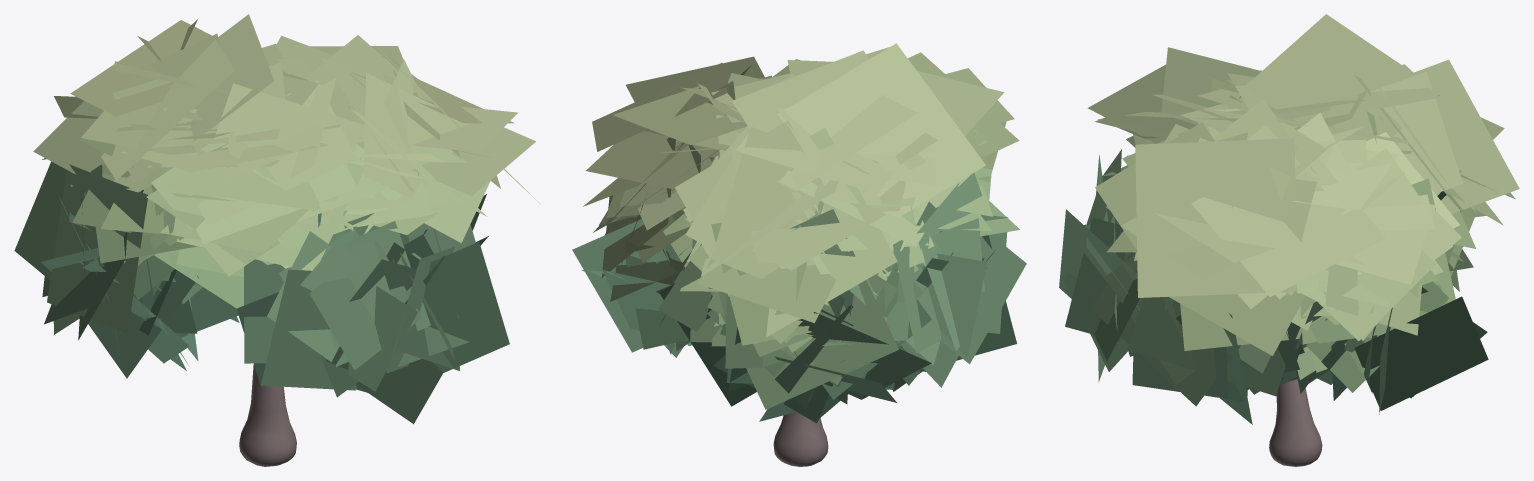
Rendered from b_oak.glb.
3 renders of one model, left to right at view 1: azimuth 30°, elevation 25°; view 2: azimuth 150°, elevation 25°; view 3: azimuth 270°, elevation 25°, orthographic. The views are drawn at different scales.
Visible parts, largest first — view 1: near; view 2: near; view 3: near.
Part boxes in pixels (left/top/right/bottom): near: left=14, top=14, right=540, bottom=466; near: left=572, top=43, right=1026, bottom=466; near: left=1059, top=14, right=1519, bottom=466.
Bounding box in the file's own units: 14.51 × 13.49 × 14.1.
